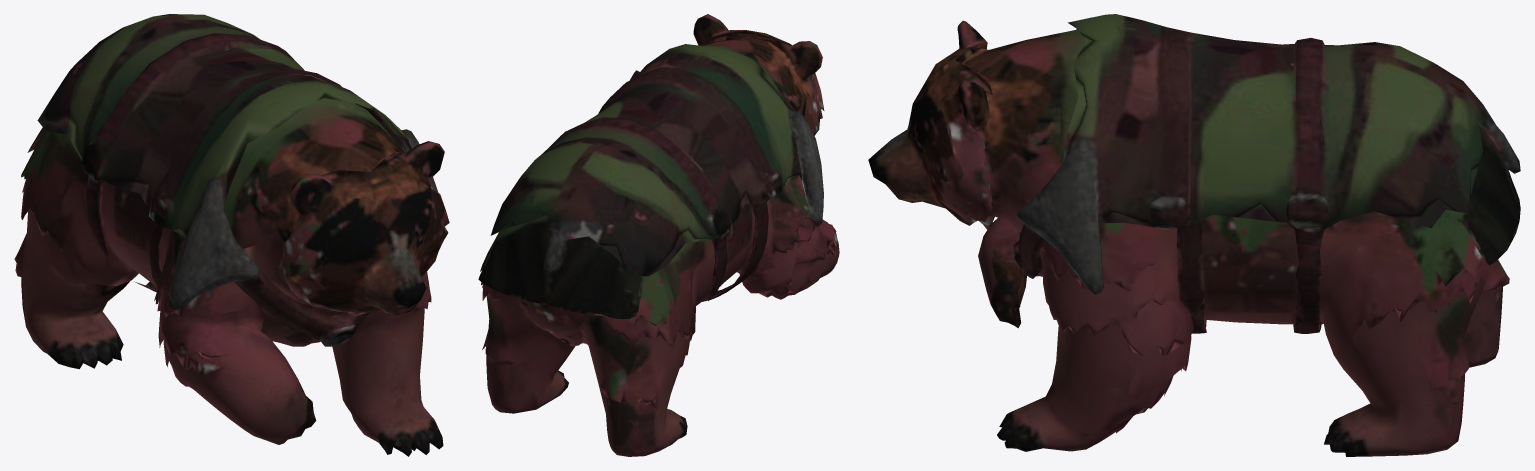
File: war_bear_march.glb
3 renders of one model, left to right at view 1: azimuth 30°, elevation 25°; view 2: azimuth 150°, elevation 25°; view 3: azimuth 270°, elevation 25°, orthographic. The views are drawn at different scales.
Visible parts, largest first — view 1: world; view 2: world; view 3: world.
Part boxes in pixels (x1=…): world: x1=14, y1=14, x2=449, y2=456; world: x1=478, y1=14, x2=839, y2=456; world: x1=868, y1=14, x2=1520, y2=456.
Size of the model in its own units: 0.5153 by 0.633 by 0.9978.
1 material, 1 textured.
